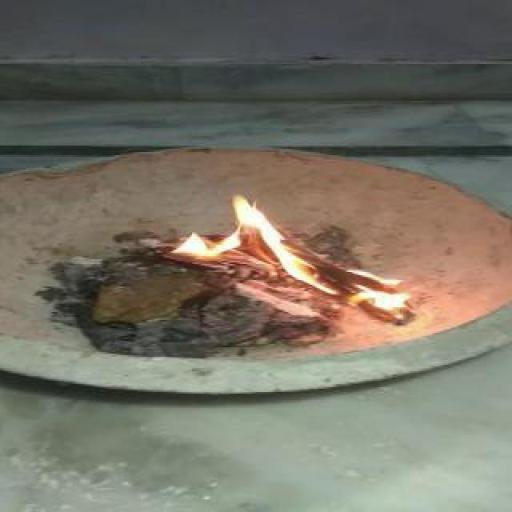smoke: (166, 192, 416, 325)
